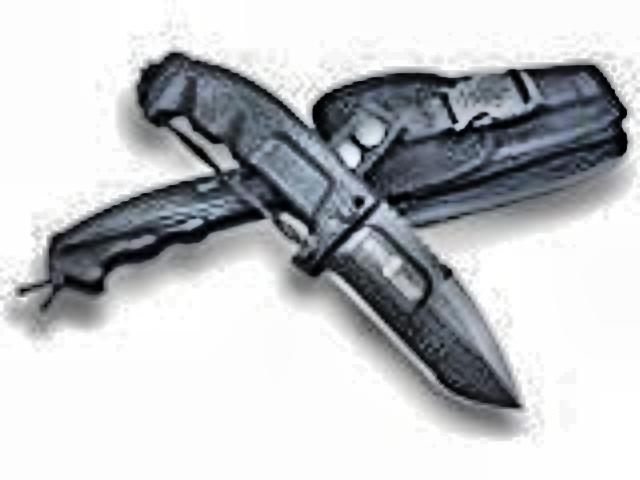knife: (308, 196, 528, 416)
